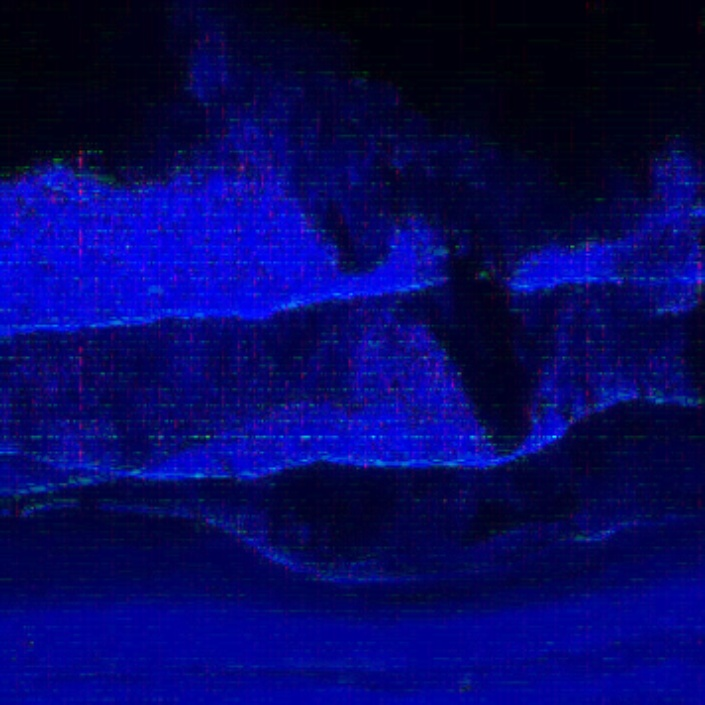rip_current: (213, 32, 601, 442)
